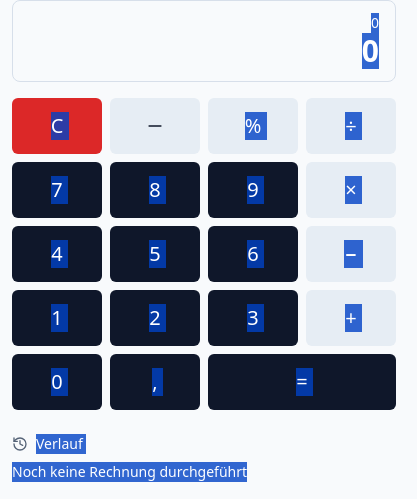
Test: Calculator — Ziffern- und Dezimal-Eingabe › hängt nach einer Operator-Wahl ohne zweiten Operanden einen Dezimalpunkt an den linken Operanden an
This screenshot has width=417, height=499.
Click the button "8".
click(155, 190)  # box x1=110 y1=162 x2=200 y2=218
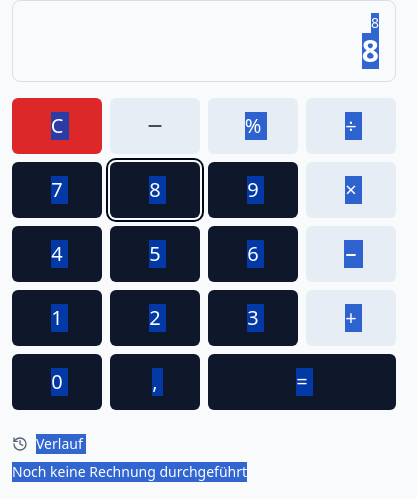
Click the button "+".
click(351, 318)  # box x1=306 y1=290 x2=396 y2=346
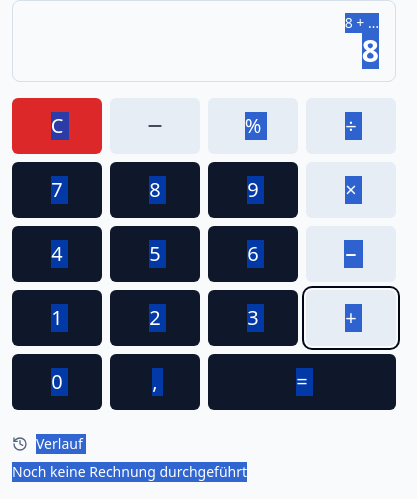
Click the button named "Komma".
click(155, 382)  # box x1=110 y1=354 x2=200 y2=410
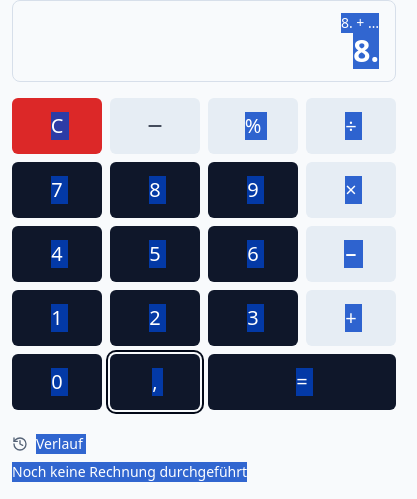
Result: the text "8." is shown at x1=353 y1=30 x2=379 y2=71
